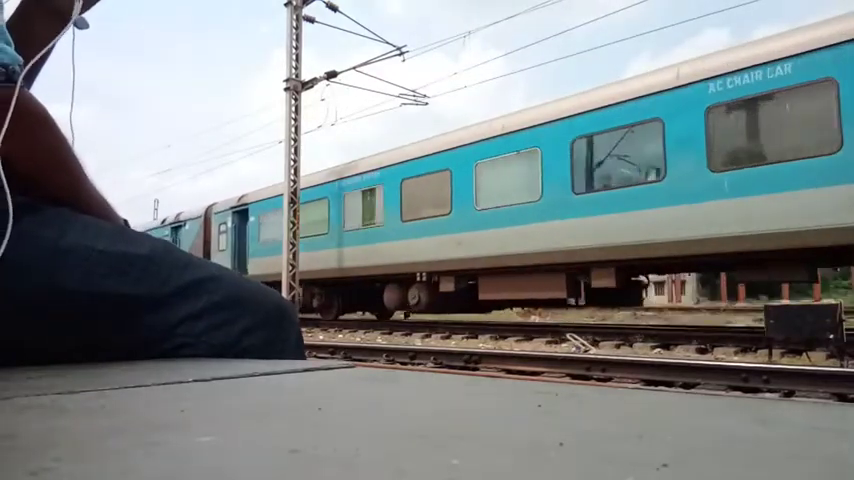Car Type: (694, 52, 802, 101)
